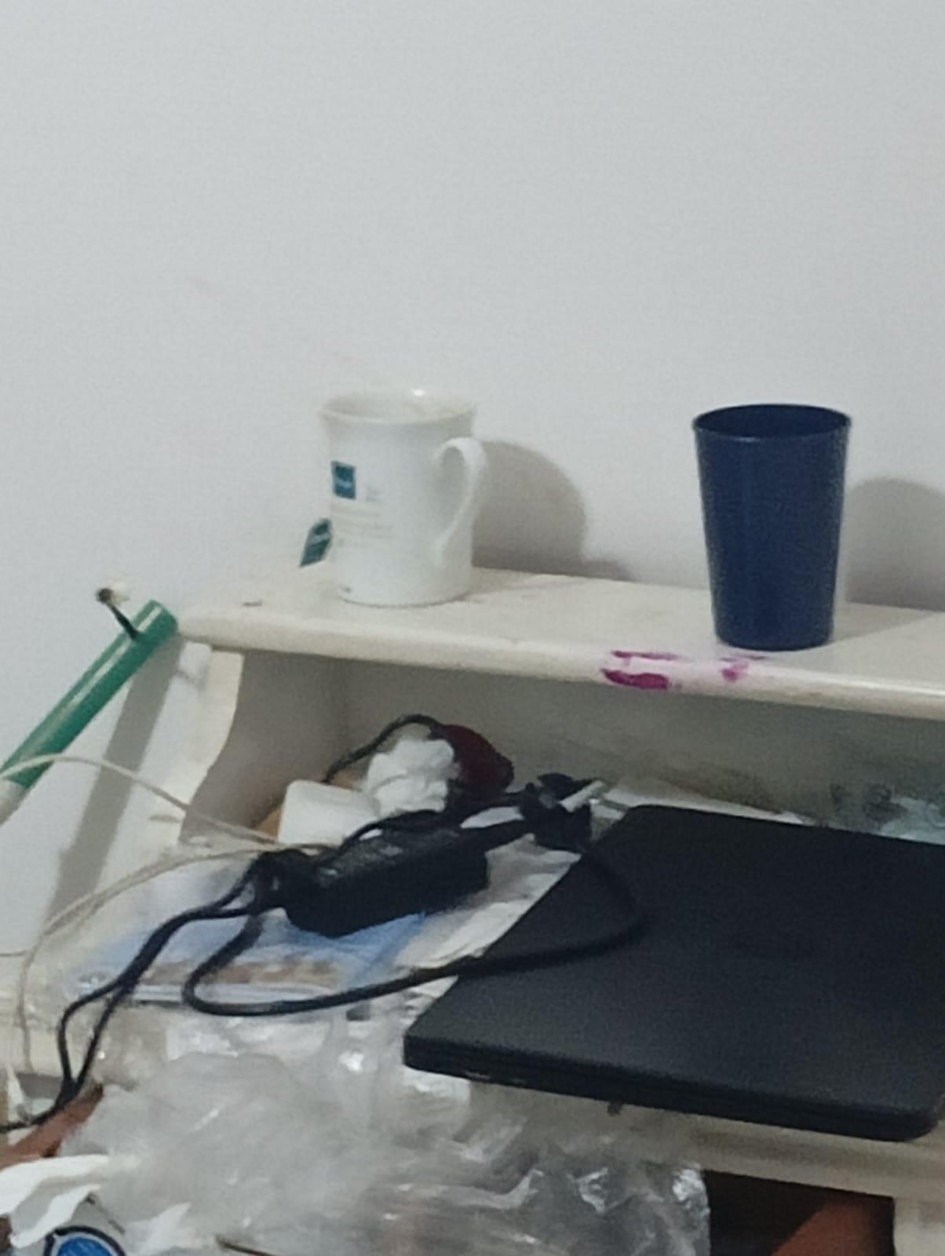cup: (694, 404, 849, 650), (322, 388, 485, 605)
